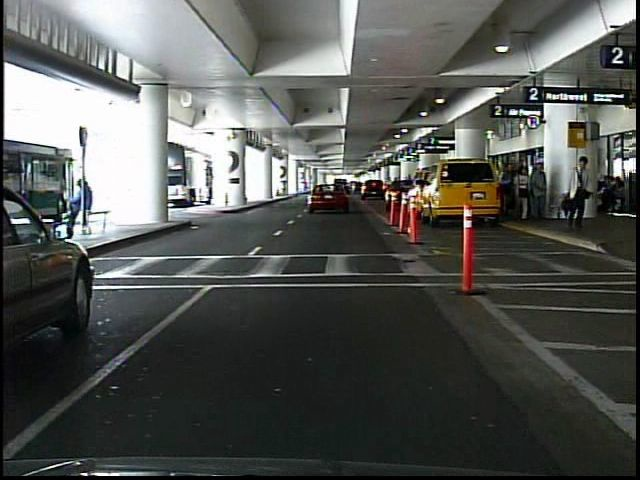person: (560, 157, 591, 232), (530, 162, 551, 220), (512, 164, 529, 223)
